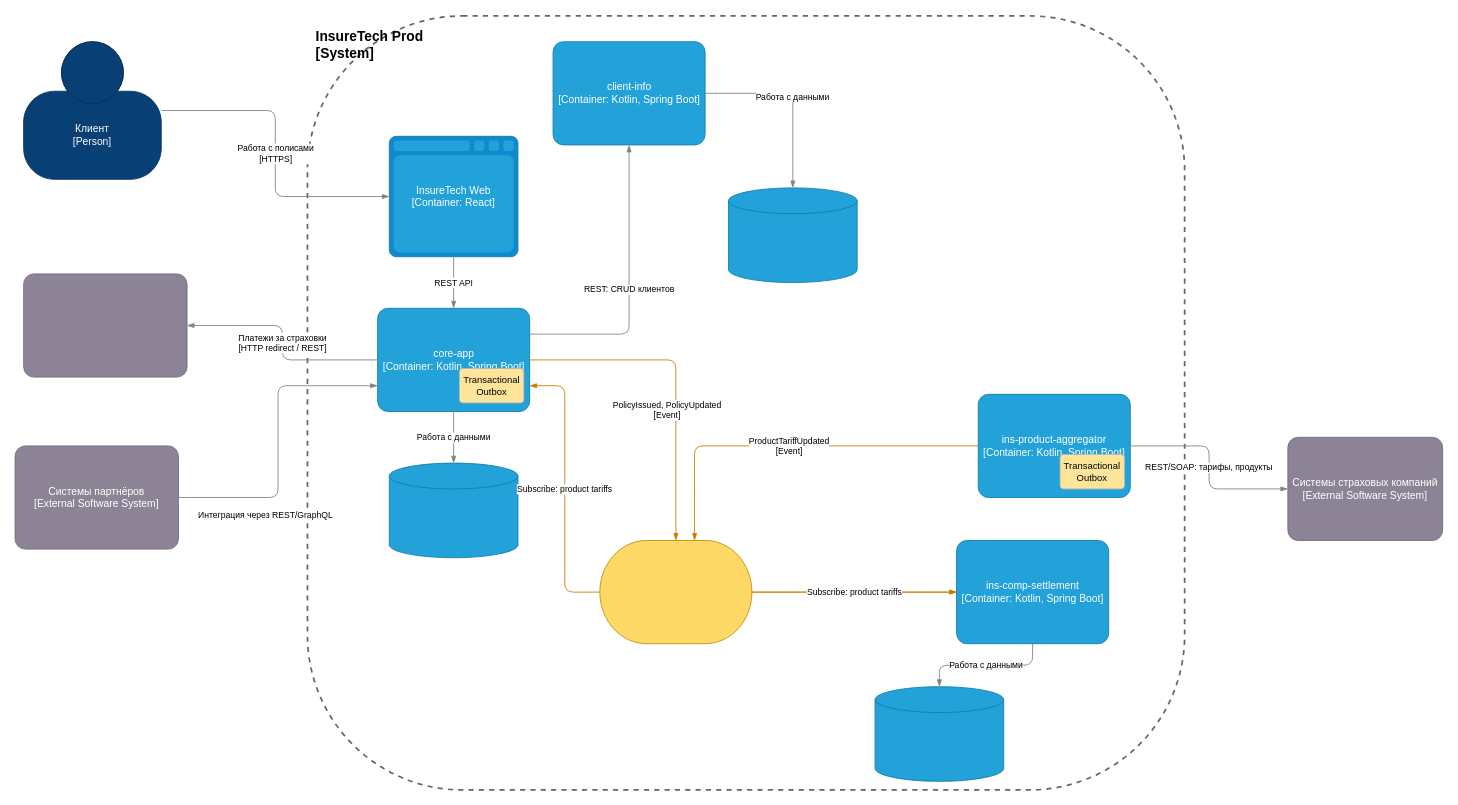
The diagram is 1458 pixels wide and 805 high, and some of its shapes have lost their labels. Here are the shapes that lost their labels. From the top down, the centre of each, then its label:
At pixel 792 235: "client-info-db [PostgreSQL]".
At pixel 105 325: "Платёжный сервис [External Software System]".
At pixel 453 510: "core-db [PostgreSQL]".
At pixel 675 592: "Event Streaming Platform [Kafka / RabbitMQ]".
At pixel 939 733: "ins-comp-settlement-db [PostgreSQL]".
